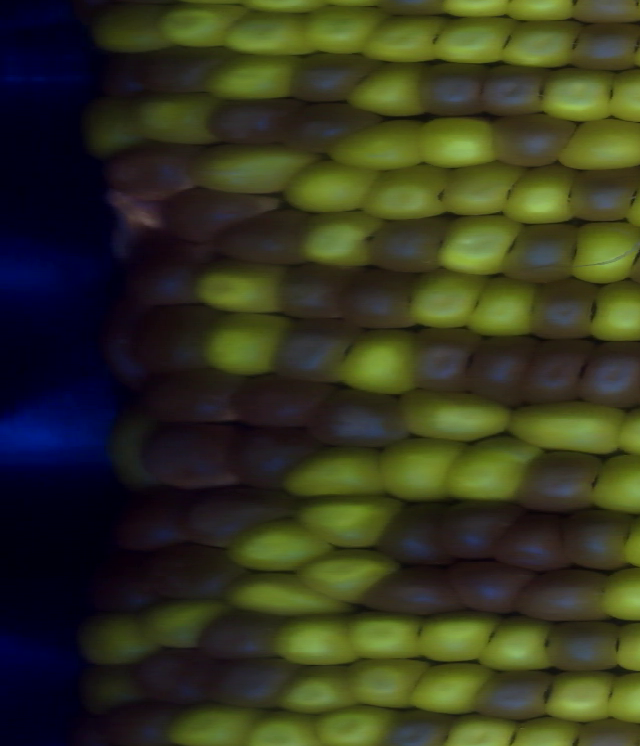fluorescent: (505, 396, 621, 456), (336, 323, 423, 402), (379, 433, 470, 506), (281, 444, 393, 502), (407, 387, 517, 445), (446, 435, 541, 501), (223, 571, 350, 620), (297, 491, 402, 550), (191, 141, 308, 190), (225, 519, 324, 576), (363, 159, 450, 222), (410, 657, 496, 717), (330, 118, 426, 171), (200, 313, 279, 377), (271, 614, 358, 671), (350, 62, 431, 123), (444, 214, 521, 278), (567, 218, 640, 285), (438, 161, 523, 218), (198, 262, 283, 319), (419, 608, 491, 675), (142, 92, 231, 146), (542, 65, 623, 124), (554, 117, 640, 172), (289, 161, 373, 217), (309, 548, 400, 599), (407, 266, 477, 332), (350, 606, 428, 665), (419, 113, 498, 171), (481, 616, 556, 677), (157, 2, 249, 51), (498, 20, 588, 70), (221, 9, 314, 57), (503, 165, 576, 225), (213, 53, 294, 107), (365, 8, 440, 65), (347, 654, 418, 713), (471, 275, 534, 338), (282, 665, 358, 716), (139, 601, 225, 646), (545, 670, 618, 723), (81, 614, 151, 669), (91, 1, 163, 53), (298, 214, 371, 265), (305, 3, 376, 55), (587, 277, 640, 346), (436, 16, 508, 64), (310, 703, 390, 746), (593, 448, 640, 517), (78, 107, 147, 152), (313, 708, 396, 745), (173, 709, 253, 746), (598, 565, 640, 623), (246, 713, 314, 746), (444, 718, 522, 746), (604, 669, 640, 727), (513, 718, 586, 746), (608, 65, 640, 127)
nonfluorescent: (138, 366, 252, 432), (131, 422, 238, 486), (126, 302, 217, 376), (310, 380, 403, 451), (515, 567, 618, 630), (330, 262, 418, 335), (126, 235, 210, 309), (263, 317, 357, 382), (361, 567, 460, 628), (212, 202, 305, 265), (184, 487, 294, 539), (265, 260, 354, 323), (113, 143, 207, 201), (558, 506, 635, 575), (524, 446, 604, 512), (292, 96, 379, 156), (500, 498, 570, 572), (289, 44, 368, 108), (208, 657, 298, 713), (377, 501, 451, 569), (173, 185, 287, 228), (152, 543, 241, 598), (138, 644, 213, 709), (491, 108, 573, 167), (500, 219, 572, 285), (441, 497, 515, 561), (233, 422, 299, 492), (238, 369, 317, 427), (199, 611, 282, 666), (562, 167, 639, 225), (545, 614, 618, 675), (473, 669, 555, 723), (415, 57, 487, 118), (447, 559, 521, 618), (207, 96, 297, 144), (581, 337, 640, 409), (463, 333, 521, 406), (113, 494, 186, 551), (572, 18, 639, 80), (147, 44, 224, 96), (371, 218, 441, 275), (521, 341, 581, 404), (533, 278, 596, 337), (481, 60, 544, 118), (86, 59, 151, 113), (418, 327, 470, 391), (116, 702, 174, 746), (109, 551, 153, 608), (391, 709, 447, 746), (583, 717, 636, 746)
